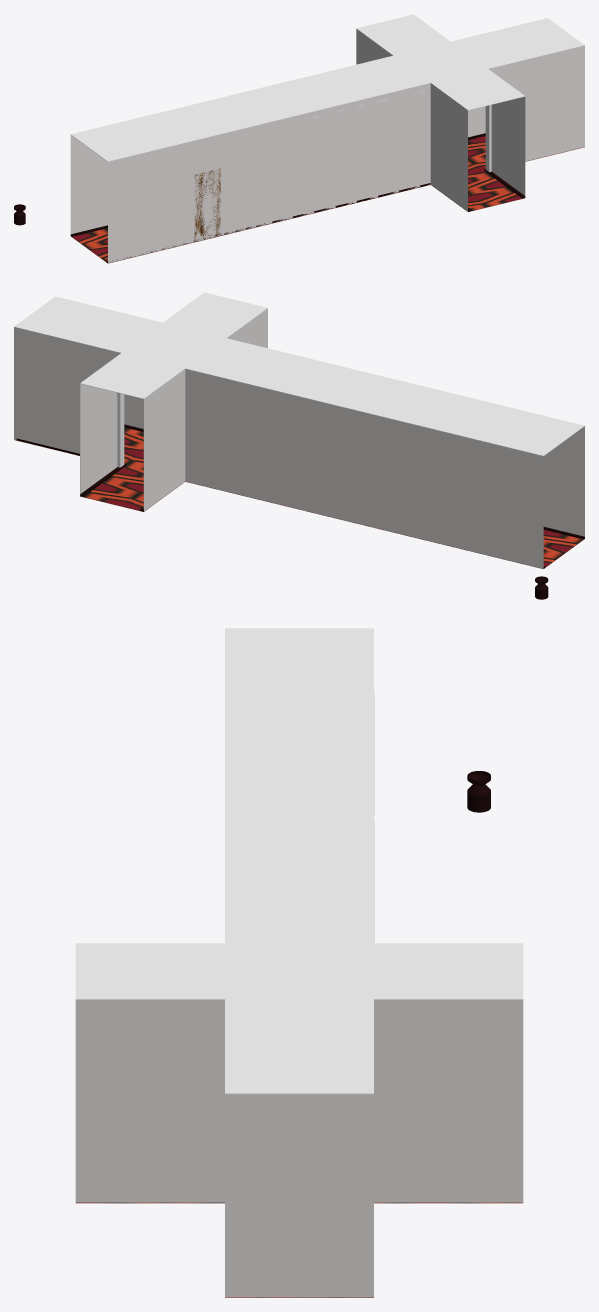
Rendered from HAHAHH~1.FBX.
The picture shows the model from 3 angles, top to bottom: view 1: azimuth 30°, elevation 25°; view 2: azimuth 150°, elevation 25°; view 3: azimuth 270°, elevation 25°; orthographic projection. The views are drawn at different scales.
Visible parts, largest first — view 1: Object_1, Layer 03, Object_55, Object_58, Object_19, Layer 01, Object_28, Layer 05, Layer 02, Object_57, Object_46, Layer 04; view 2: Object_19, Layer 03, Object_46, Object_57, Object_1, Layer 01, Object_56, Layer 05, Object_58, Object_55, Layer 04; view 3: Layer 03, Object_28, Object_56, Object_50, Layer 05.
Boxes of the visible parts, left/top/right/bottom form: Object_1: left=108, top=83, right=430, bottom=263; Layer 03: left=71, top=14, right=584, bottom=161; Object_55: left=489, top=45, right=584, bottom=161; Object_58: left=430, top=83, right=467, bottom=211; Object_19: left=70, top=135, right=107, bottom=234; Layer 01: left=71, top=136, right=584, bottom=263; Object_28: left=491, top=96, right=525, bottom=195; Layer 05: left=14, top=133, right=525, bottom=262; Layer 02: left=194, top=168, right=220, bottom=241; Object_57: left=356, top=29, right=392, bottom=64; Object_46: left=468, top=106, right=485, bottom=137; Layer 04: left=485, top=68, right=494, bottom=172; Object_19: left=185, top=369, right=543, bottom=568; Layer 03: left=14, top=292, right=584, bottom=456; Object_46: left=14, top=327, right=120, bottom=453; Object_57: left=143, top=369, right=185, bottom=511; Object_1: left=543, top=426, right=584, bottom=536; Layer 01: left=14, top=427, right=584, bottom=568; Object_56: left=80, top=383, right=117, bottom=495; Layer 05: left=16, top=424, right=584, bottom=599; Object_58: left=227, top=308, right=267, bottom=348; Object_55: left=124, top=394, right=143, bottom=428; Layer 04: left=117, top=393, right=124, bottom=467; Layer 03: left=75, top=628, right=523, bottom=1094; Object_28: left=75, top=1000, right=224, bottom=1202; Object_56: left=374, top=1000, right=523, bottom=1202; Object_50: left=225, top=1094, right=373, bottom=1296; Layer 05: left=467, top=771, right=490, bottom=812.
Bounding box in the file's own units: 1570 × 302 × 600.
Materials: 6 (2 with a texture image).
